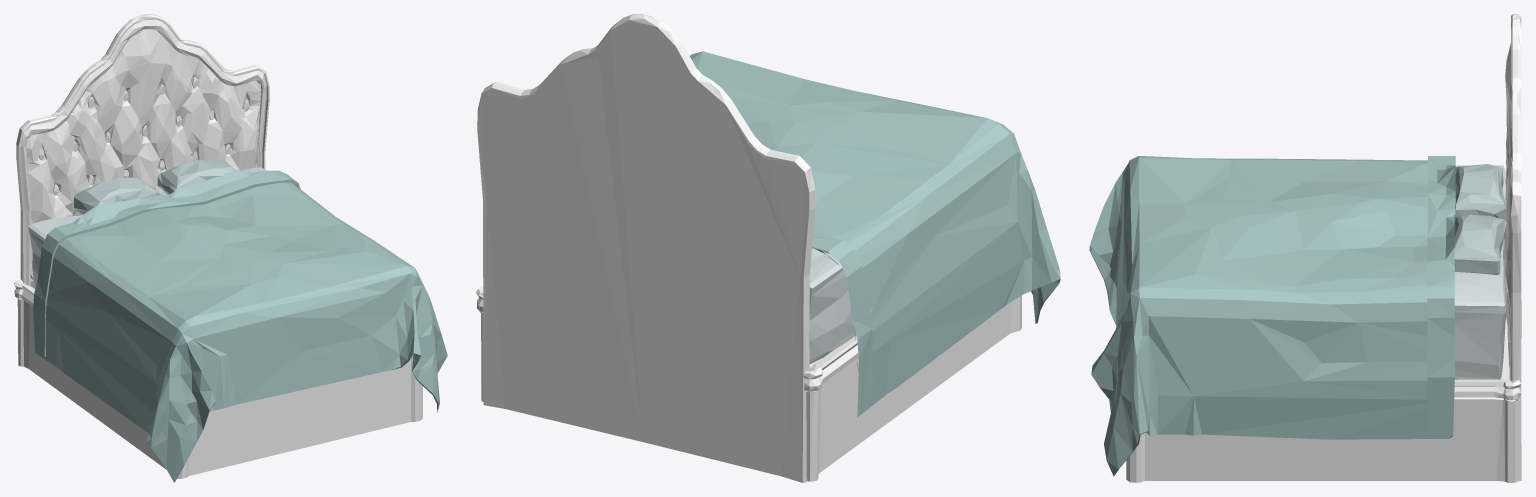
Rendered from sh-bs0-bed3.glb.
The picture shows the model from 3 angles, left to right: view 1: azimuth 30°, elevation 25°; view 2: azimuth 150°, elevation 25°; view 3: azimuth 270°, elevation 25°; orthographic projection. The views are drawn at different scales.
Visible parts, largest first — view 1: Plane.002_Plane.002_Blanquet, Plane.003_Plane.003_Bed, Cube.004_Cube.006_Pillow, Cube.002_Cube.003_Mattress; view 2: Plane.003_Plane.003_Bed, Plane.002_Plane.002_Blanquet, Cube.002_Cube.003_Mattress; view 3: Plane.002_Plane.002_Blanquet, Plane.003_Plane.003_Bed, Cube.002_Cube.003_Mattress, Cube.004_Cube.006_Pillow.
Part boxes in pixels (x1,y1,x2,y2): Plane.002_Plane.002_Blanquet: (33, 170, 447, 482); Plane.003_Plane.003_Bed: (14, 14, 422, 478); Cube.004_Cube.006_Pillow: (74, 159, 234, 214); Cube.002_Cube.003_Mattress: (28, 167, 266, 286); Plane.003_Plane.003_Bed: (476, 14, 1021, 482); Plane.002_Plane.002_Blanquet: (690, 51, 1060, 417); Cube.002_Cube.003_Mattress: (809, 248, 855, 364); Plane.002_Plane.002_Blanquet: (1089, 156, 1455, 476); Plane.003_Plane.003_Bed: (1126, 14, 1521, 482); Cube.002_Cube.003_Mattress: (1454, 165, 1507, 379); Cube.004_Cube.006_Pillow: (1453, 164, 1506, 274).
Size of the model in its own units: 1 by 0.9986 by 1.
